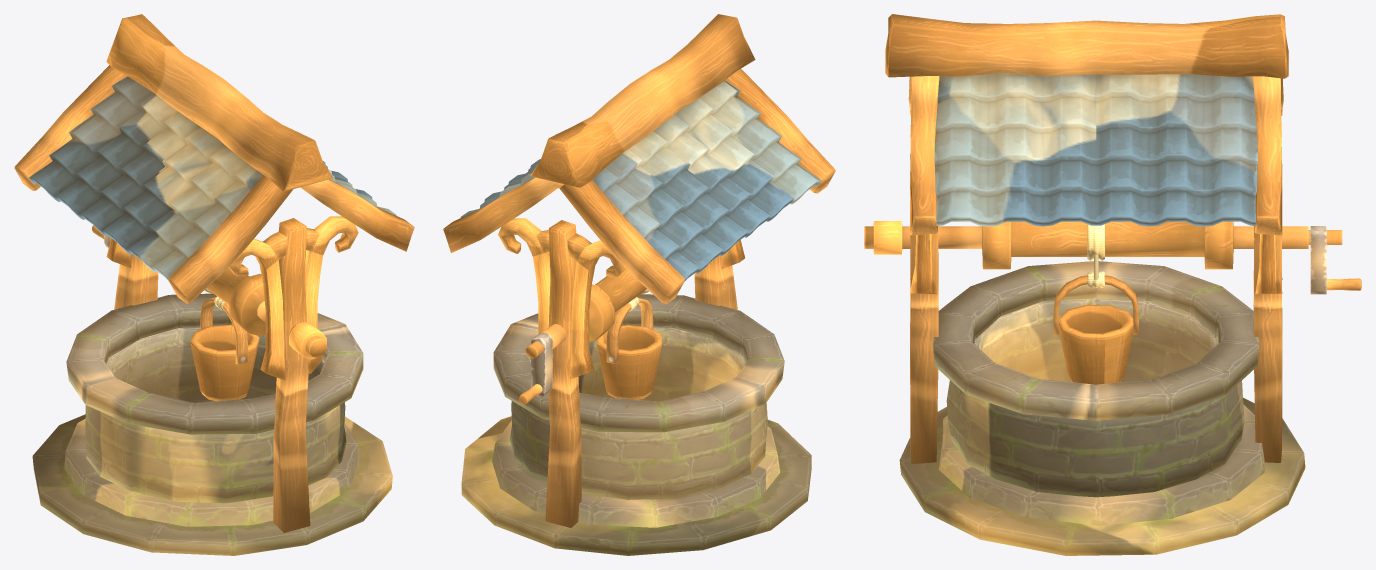
File: SM_Stylized_Well.fbx
3 views of the same model, side by side, from view 1: azimuth 30°, elevation 25°; view 2: azimuth 150°, elevation 25°; view 3: azimuth 270°, elevation 25° (orthographic). The views are drawn at different scales.
Parts seen in each view (by area): view 1: SM_Stylized_Well_LOD0; view 2: SM_Stylized_Well_LOD0; view 3: SM_Stylized_Well_LOD0.
Boxes of the visible parts, box(x1,y1,x2,y2) form: SM_Stylized_Well_LOD0: box(14, 14, 414, 555); SM_Stylized_Well_LOD0: box(443, 14, 835, 555); SM_Stylized_Well_LOD0: box(864, 14, 1361, 555).
Size of the model in its own units: 214 by 266 by 268.
